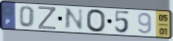0: (18, 5, 36, 30)
5: (114, 10, 133, 35)
9: (137, 11, 153, 35)
N: (63, 7, 85, 32)
O: (85, 8, 108, 34)
Z: (37, 5, 57, 31)
